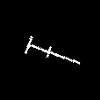double_crochet: (25, 36, 79, 63)
